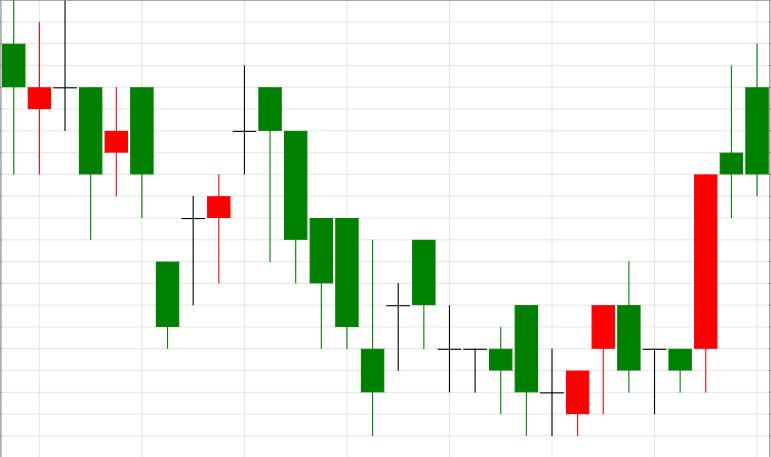hanging_man_fall: (157, 66, 281, 349)
